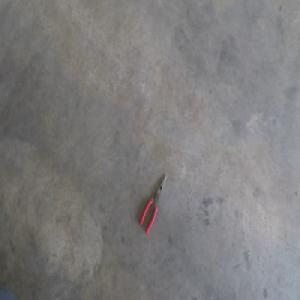Pliers: (139, 173, 167, 233)
